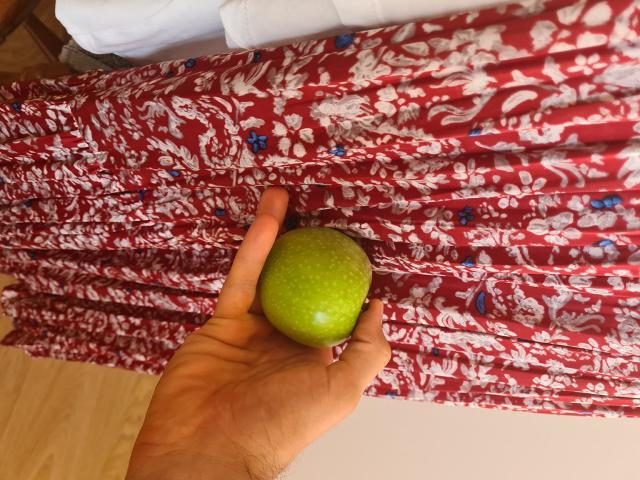apple: (260, 228, 368, 333)
